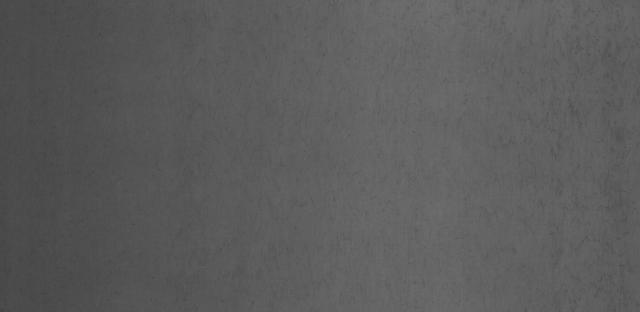silk_spot: (184, 98, 398, 269)
